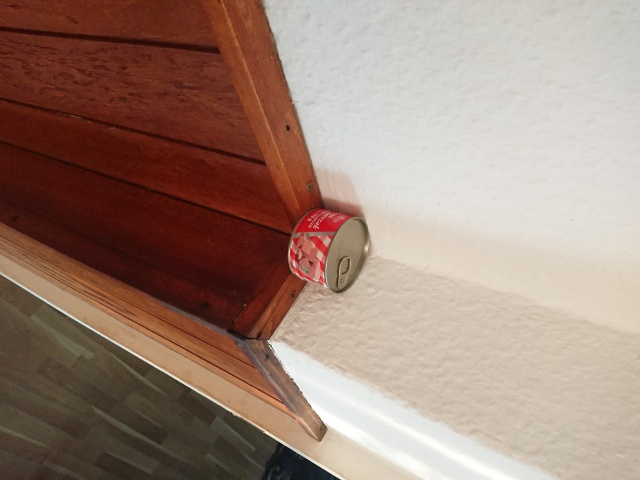Podravka Luncheon Meat 150g: (284, 205, 374, 295)
